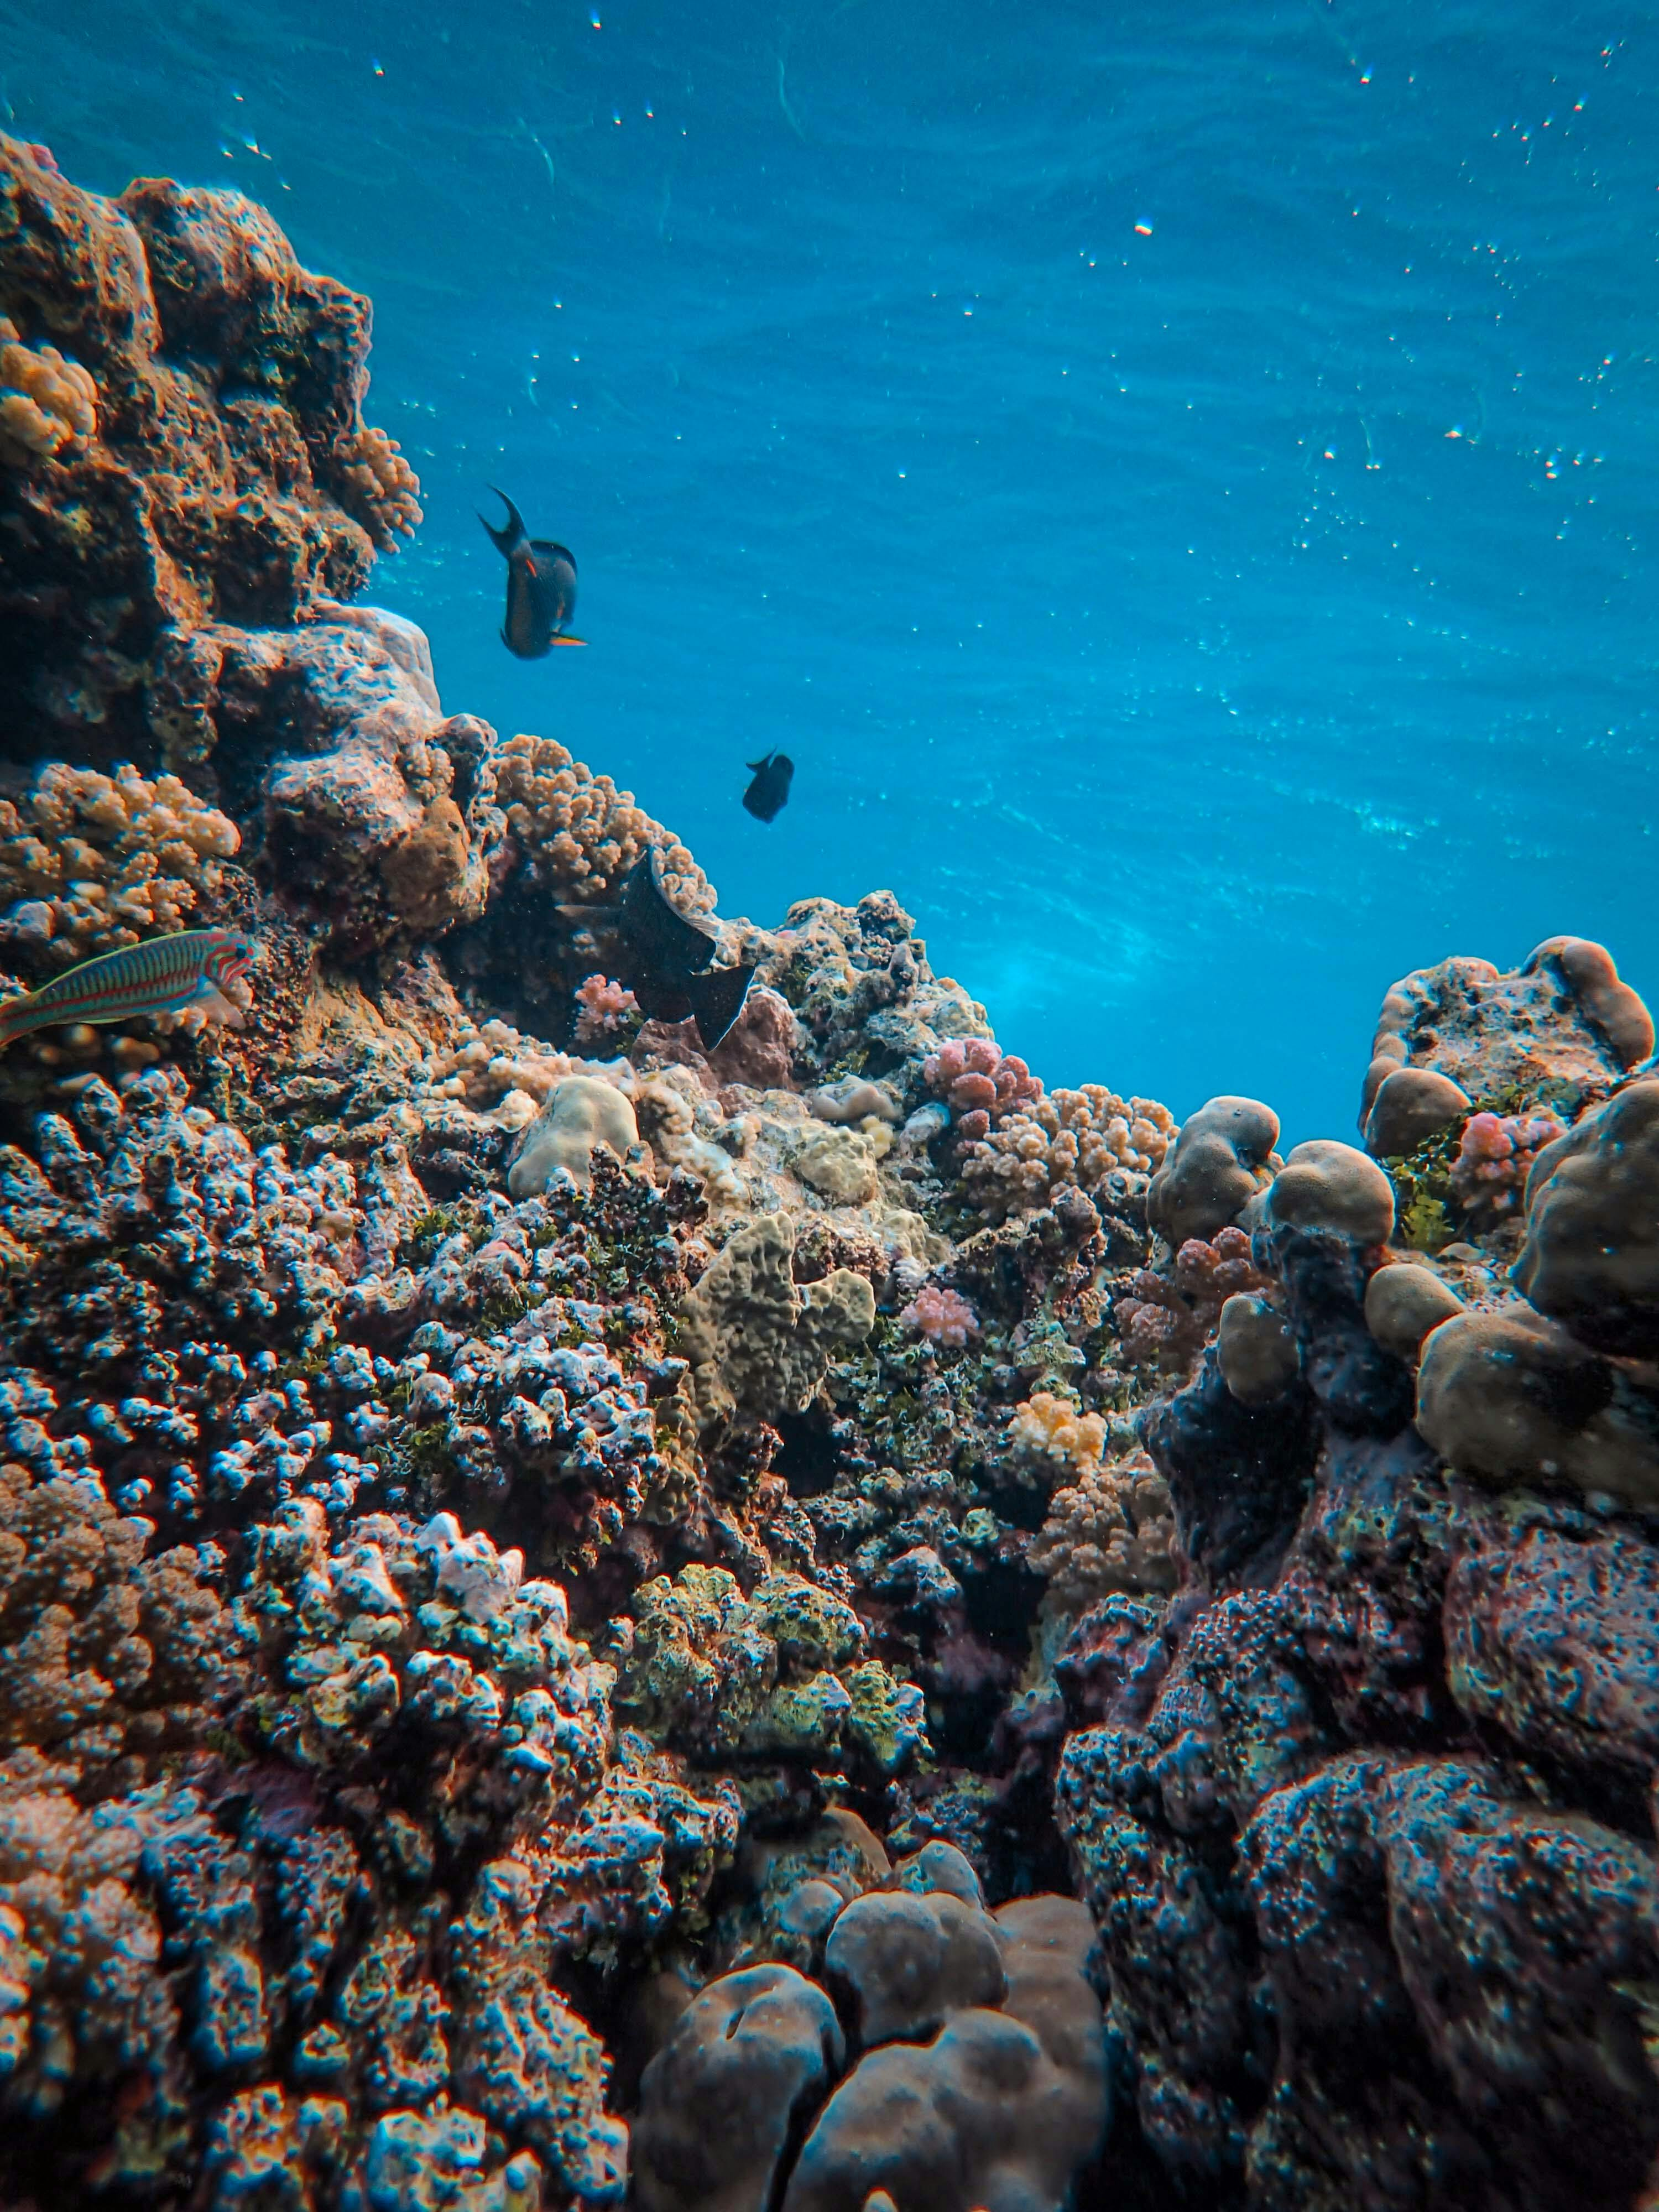fishRound: (479, 475, 587, 660), (744, 737, 795, 829)
fishSmall: (0, 928, 265, 1043)
